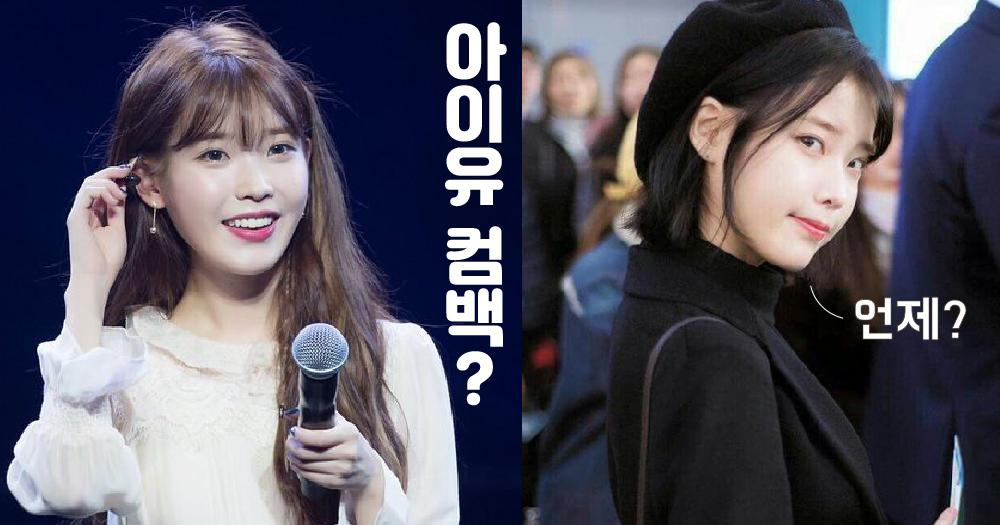earphone: (120, 171, 143, 190)
